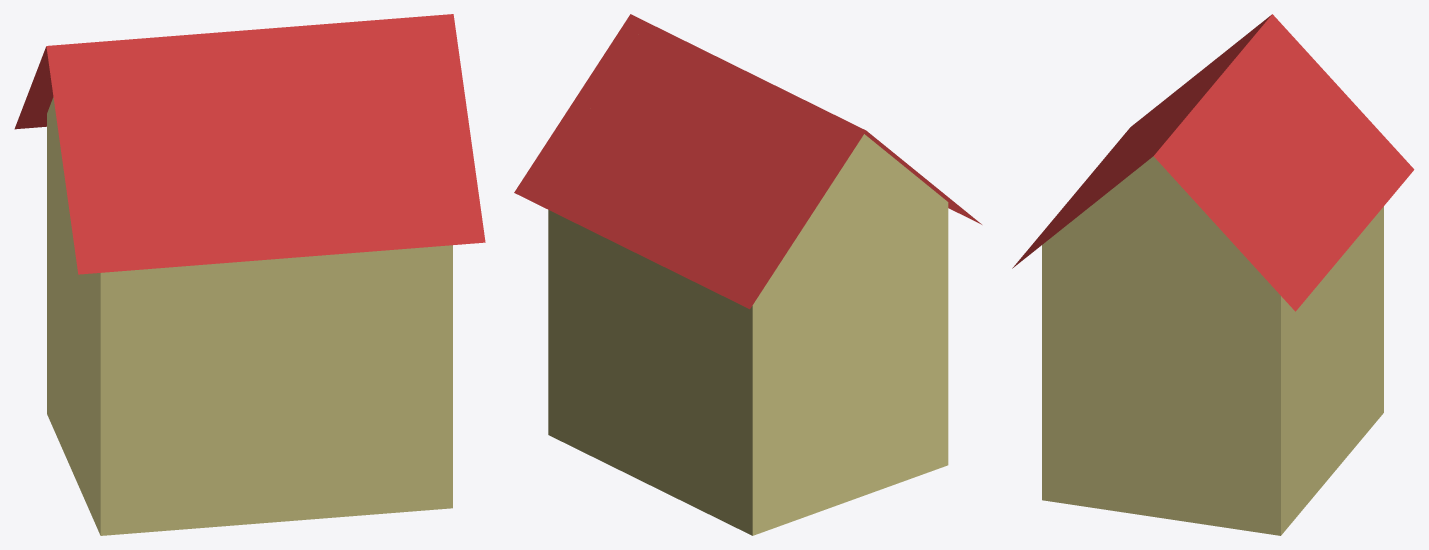
The picture shows the model from 3 angles, left to right: view 1: azimuth 30°, elevation 25°; view 2: azimuth 150°, elevation 25°; view 3: azimuth 270°, elevation 25°; orthographic projection. The views are drawn at different scales.
Parts seen in each view (by area): view 1: group_5, group_3, group_4; view 2: group_5, group_3, group_4; view 3: group_5, group_3, group_4.
Part boxes in pixels (box(x1,y1,x2,y2)): group_5: box(47, 97, 452, 535); group_3: box(46, 14, 485, 274); group_4: box(14, 16, 485, 274); group_5: box(548, 134, 948, 535); group_3: box(514, 15, 974, 309); group_4: box(556, 14, 981, 308); group_5: box(1042, 156, 1383, 535); group_3: box(1043, 14, 1414, 311); group_4: box(1012, 15, 1377, 305).
Size of the model in its own units: 13.65 by 12.59 by 12.8.
